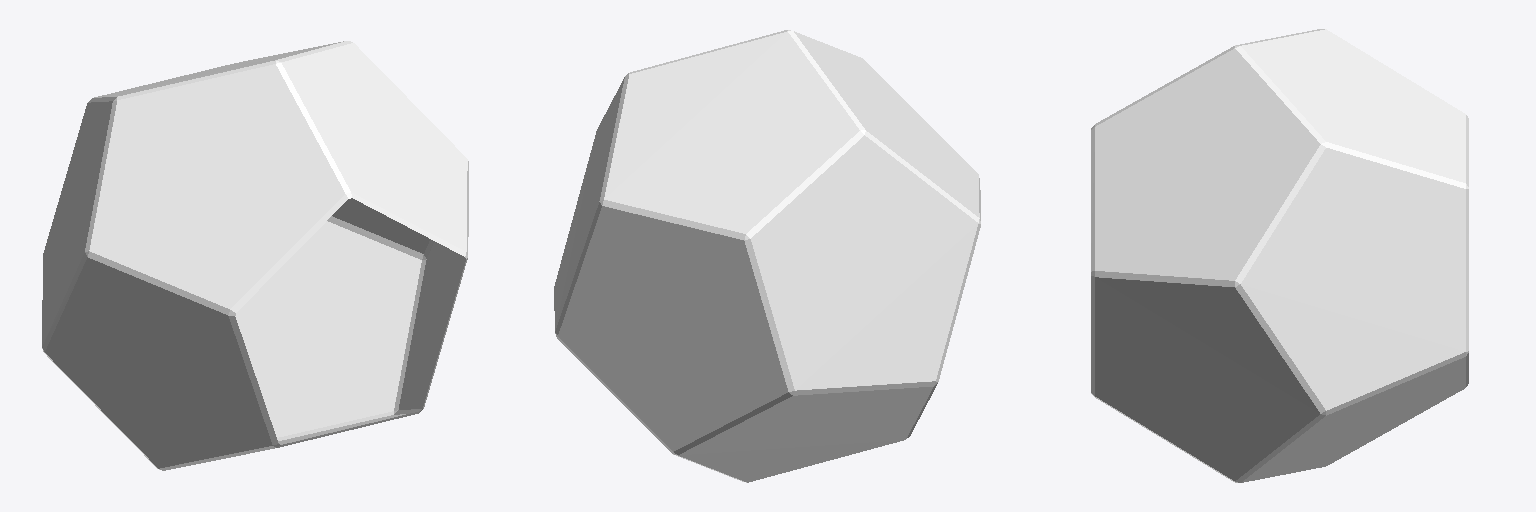
Rendered from oolite_dodo.obj.
3 views of the same model, side by side, from view 1: azimuth 30°, elevation 25°; view 2: azimuth 150°, elevation 25°; view 3: azimuth 270°, elevation 25° (orthographic).
Parts seen in each view (by area): view 1: alt_mainhull.obj; view 2: alt_mainhull.obj; view 3: alt_mainhull.obj.
Boxes of the visible parts, x1=… form: alt_mainhull.obj: x1=42, y1=41, x2=468, y2=470; alt_mainhull.obj: x1=554, y1=30, x2=980, y2=482; alt_mainhull.obj: x1=1091, y1=29, x2=1468, y2=482.
Size of the model in its own units: 1337 by 1406 by 1149.